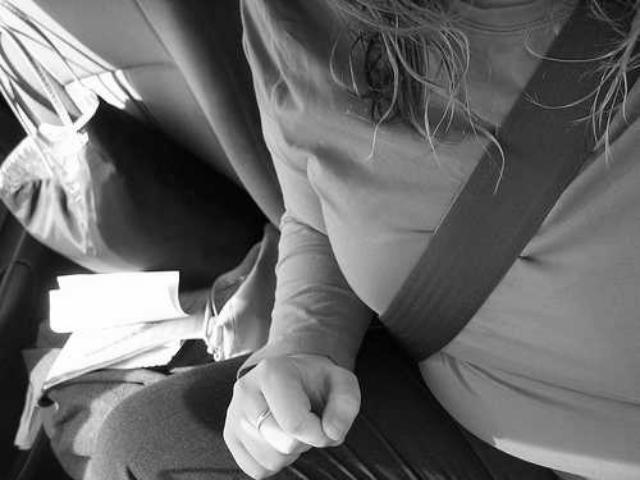Seatbelt: (360, 1, 640, 368)
